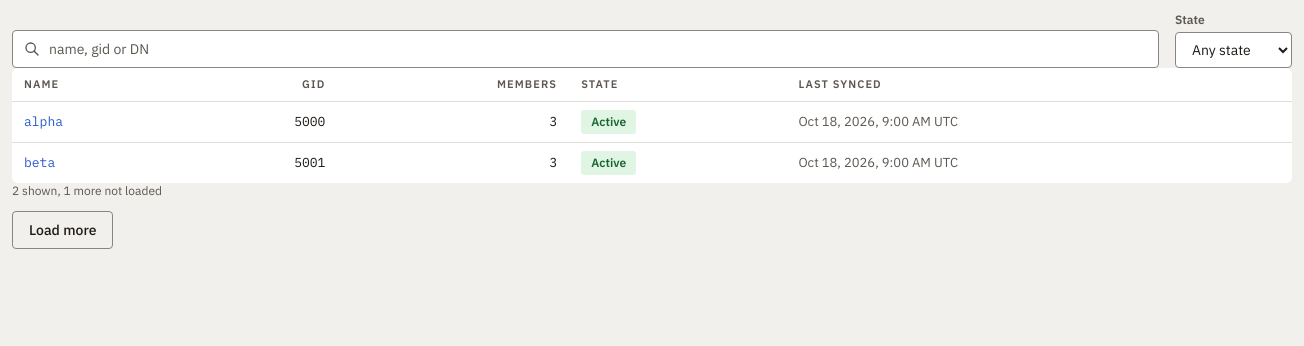
should keep the loaded rows when Load more fails
Click the button with test id "nss-list-load-more".
click(63, 230)  # box [12,210,114,248]
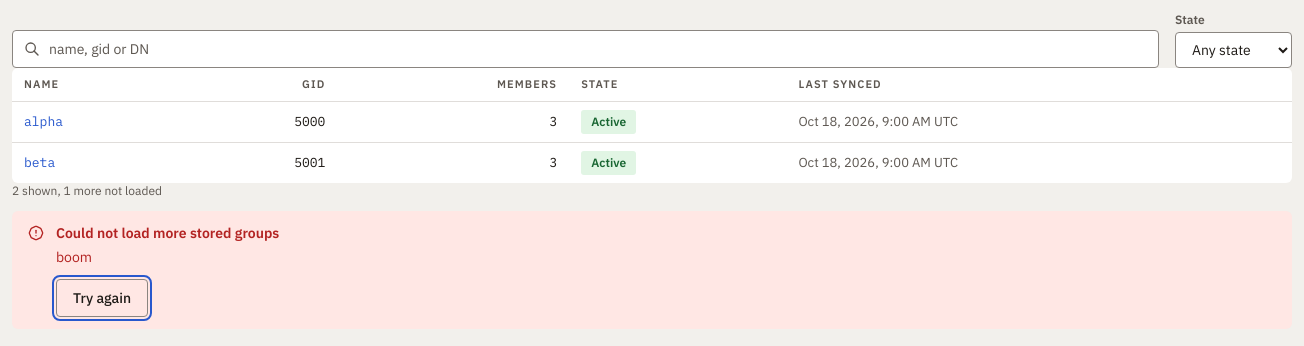
expect the number of rows with test id "nss-list-row" is 2: met, box [12,101,1292,142]; [12,142,1292,182]
expect the message "Could not load more stored groups boom Try again" is shown: met, box [12,210,1292,328]
